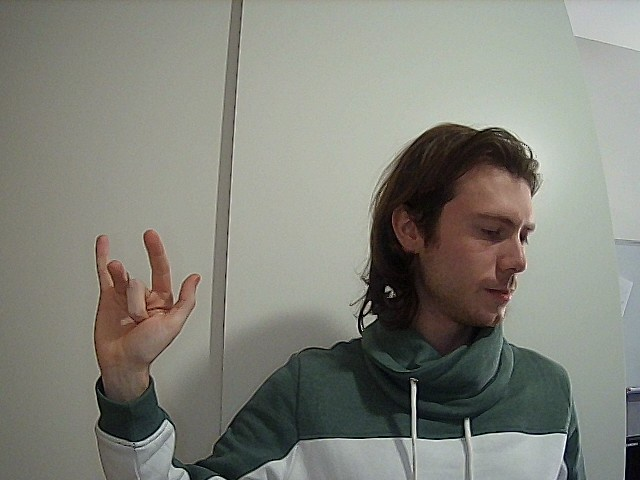reset: (80, 217, 212, 382)
